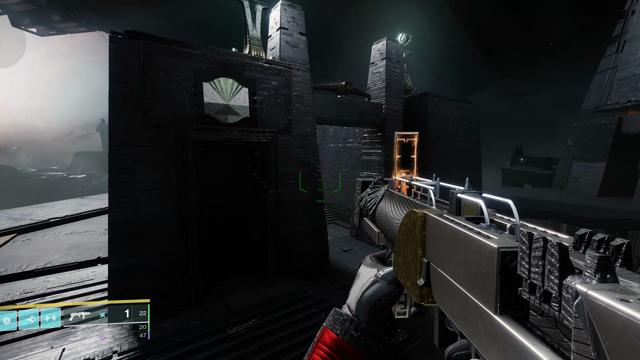commune: (203, 78, 249, 123)
